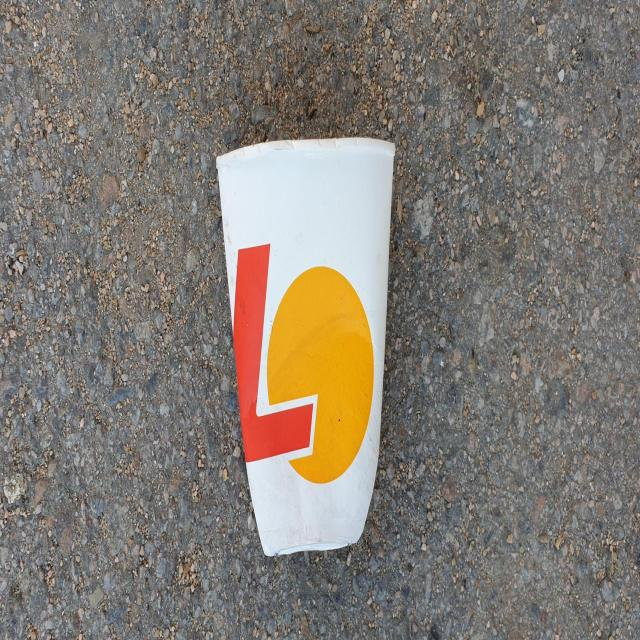paperpack: (216, 136, 395, 556)
